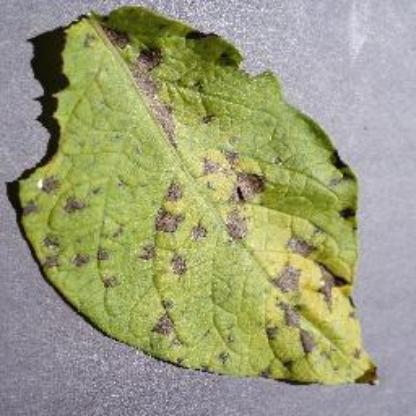Early-Blight: (13, 3, 385, 387)
